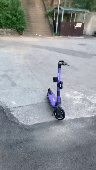beam: (45, 58, 70, 123)
